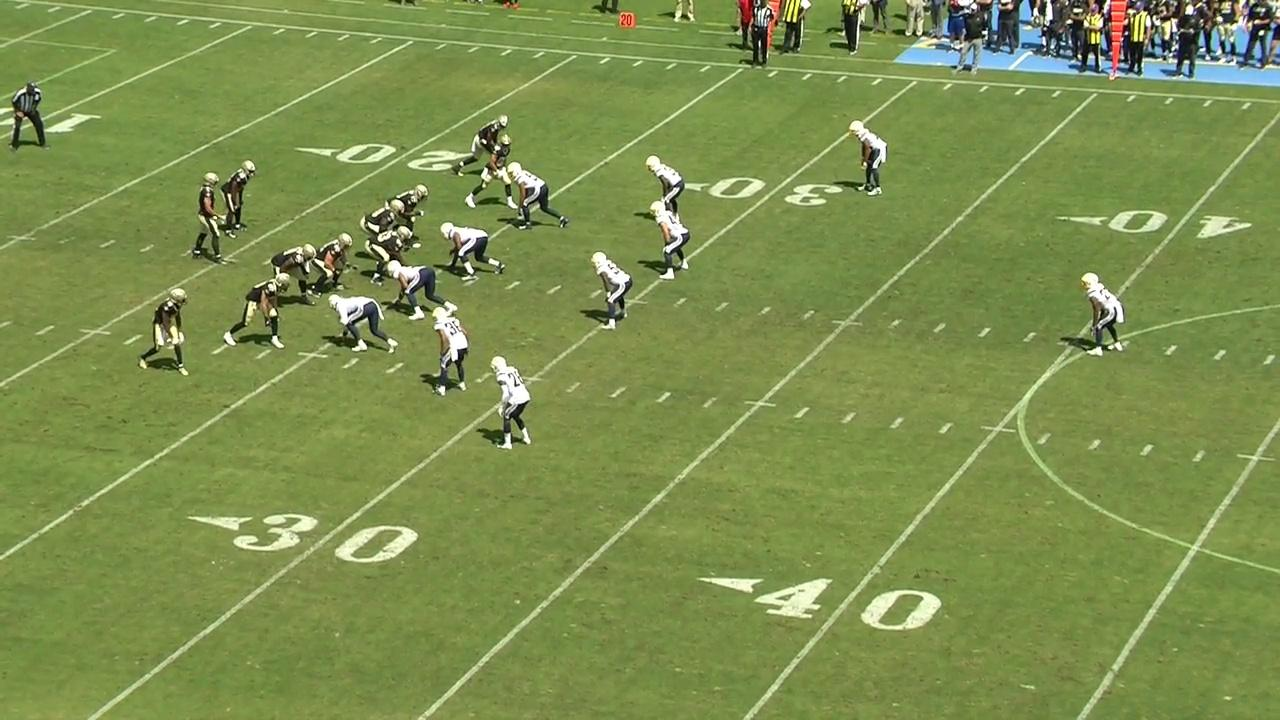defense: (1077, 267, 1128, 360), (326, 292, 399, 356), (386, 258, 459, 322), (506, 160, 570, 232), (488, 353, 534, 452), (439, 220, 506, 283), (589, 249, 633, 331), (648, 199, 692, 281), (431, 304, 469, 398), (847, 119, 890, 199), (645, 154, 686, 224)
oline: (306, 230, 359, 299), (267, 241, 318, 309), (383, 183, 431, 250), (364, 225, 413, 287), (359, 198, 406, 238)
qb: (190, 169, 230, 268)
ref: (7, 78, 51, 155), (746, 0, 778, 71)
skill: (222, 271, 293, 352), (136, 286, 192, 378), (464, 132, 518, 214), (451, 114, 513, 179), (218, 159, 259, 241)
